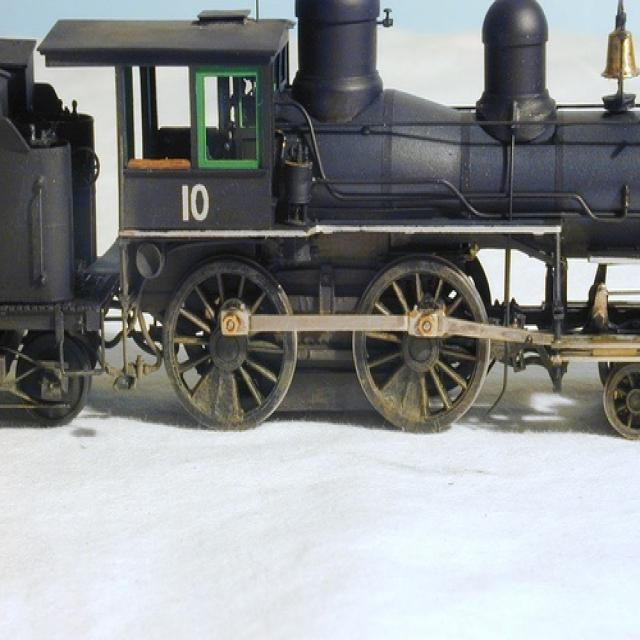train: (0, 0, 635, 445)
